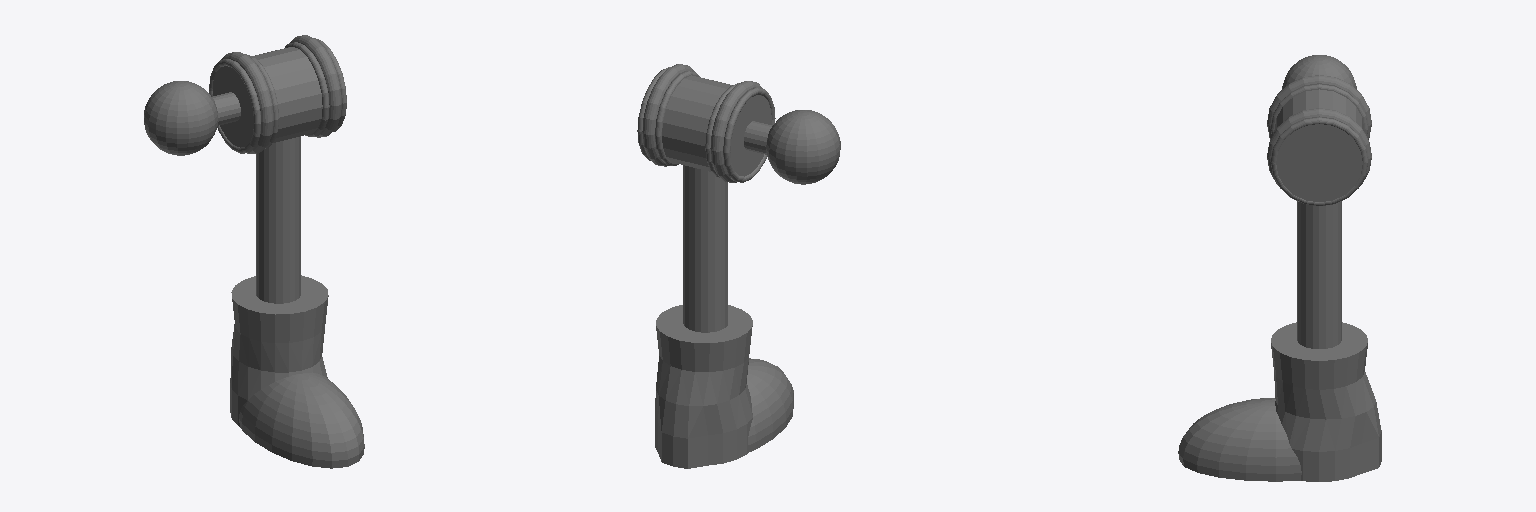
Rendered from CylinderBotLeftLeg_Positioned_MERGED.obj.
3 renders of one model, left to right at view 1: azimuth 30°, elevation 25°; view 2: azimuth 150°, elevation 25°; view 3: azimuth 270°, elevation 25°, orthographic.
Visible parts, largest first — view 1: CylinderBotLeftLeg_Positioned:polySurface21 CylinderBotLeftLeg_P; view 2: CylinderBotLeftLeg_Positioned:polySurface21 CylinderBotLeftLeg_P; view 3: CylinderBotLeftLeg_Positioned:polySurface21 CylinderBotLeftLeg_P.
Part boxes in pixels (left/top/right/bottom): CylinderBotLeftLeg_Positioned:polySurface21 CylinderBotLeftLeg_P: left=144, top=35, right=364, bottom=468; CylinderBotLeftLeg_Positioned:polySurface21 CylinderBotLeftLeg_P: left=637, top=64, right=840, bottom=468; CylinderBotLeftLeg_Positioned:polySurface21 CylinderBotLeftLeg_P: left=1178, top=55, right=1381, bottom=481.
Size of the model in its own units: 5.4 by 10.82 by 5.41.